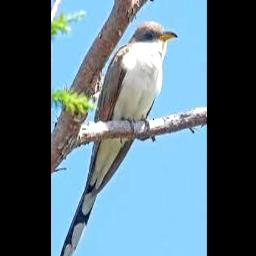Cuckoo: (58, 20, 179, 256)
